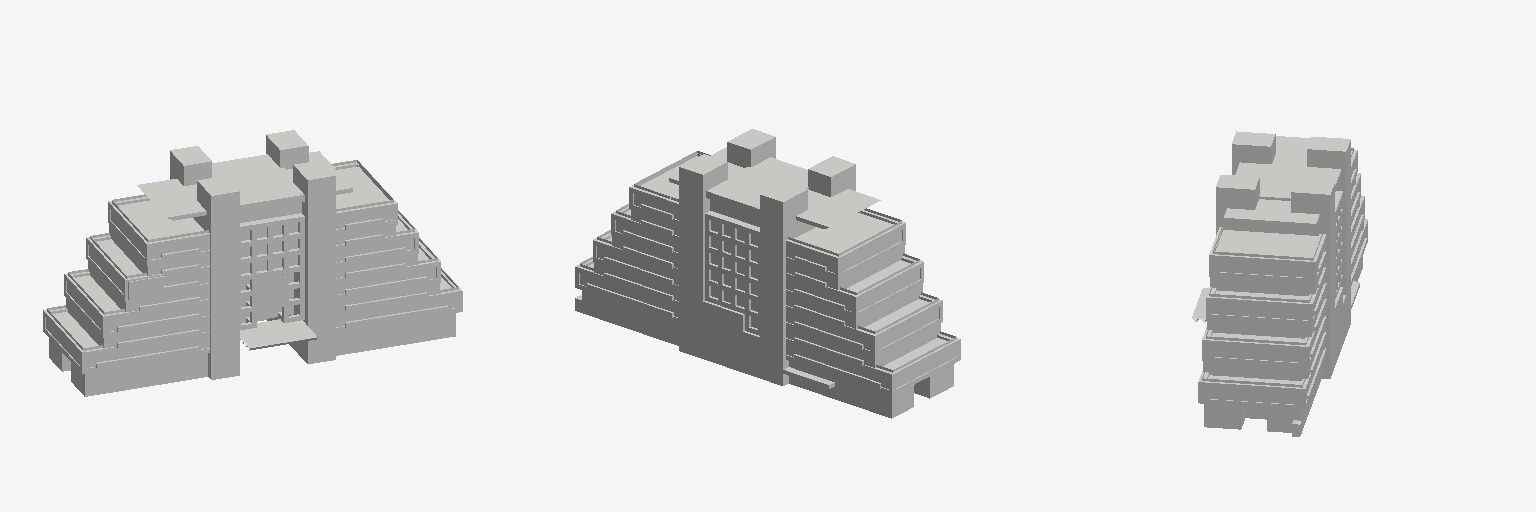
3 views of the same model, side by side, from view 1: azimuth 30°, elevation 25°; view 2: azimuth 150°, elevation 25°; view 3: azimuth 270°, elevation 25° (orthographic).
Parts seen in each view (by area): view 1: Group_001, Group_011, Group_032, Group_027, Group_014; view 2: Group_001, Group_005, Group_023; view 3: Group_001.
Boxes of the visible parts, <box> form: Group_001: <box>43,130,462,396</box>; Group_011: <box>240,319,316,347</box>; Group_032: <box>128,276,163,299</box>; Group_027: <box>345,305,448,327</box>; Group_014: <box>96,346,199,368</box>; Group_001: <box>575,129,960,418</box>; Group_005: <box>586,283,673,317</box>; Group_023: <box>794,354,880,388</box>; Group_001: <box>1192,131,1367,436</box>.
Size of the model in its own units: 2892 by 1389 by 1209.